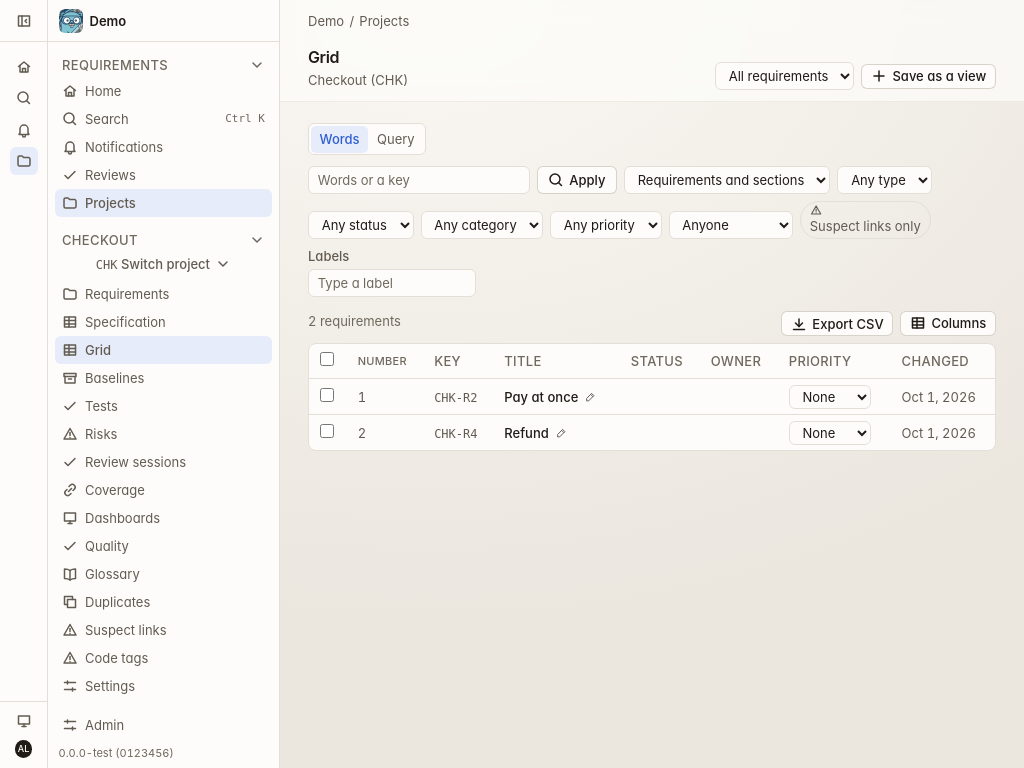
picking requirements for Armature issues › picks every requirement a grid shows at once
What coordinates should you click on to do the following:
click the checkbox named "Select every requirement shown" next to "Number"
I would click on:
 (326, 359)
Its box is [320,352,334,366].
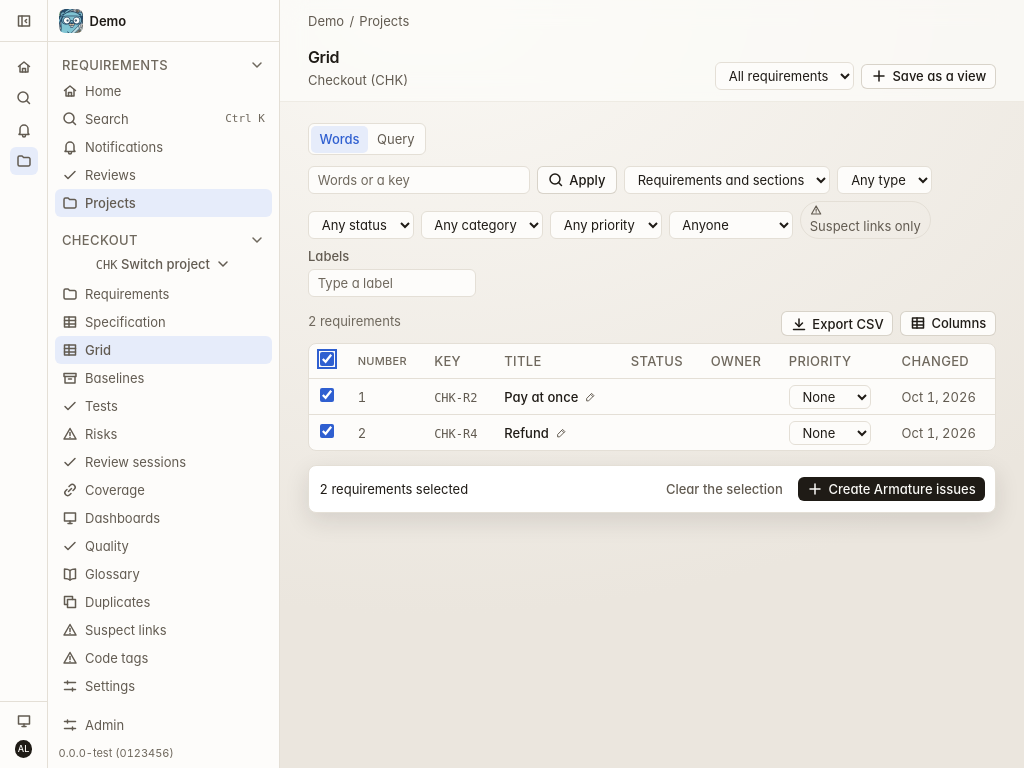
Expected: the checkbox named "Select CHK-R4" in the row of "CHK-R4" is checked, [320,424,334,438]
Expected: the text "2 requirements selected" is shown, [320,479,468,499]
What coordinates should you click on to do the following:
click the button "Clear the selection"
I would click on:
 (724, 489)
Its box is [657,477,791,501].
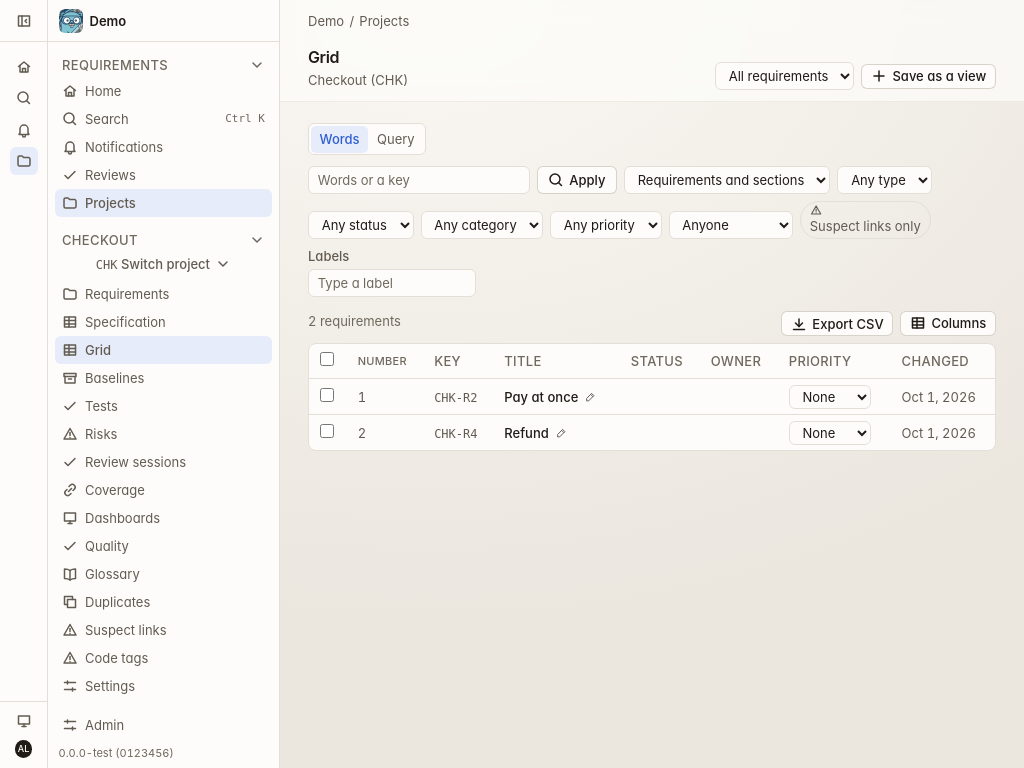
Expected: the checkbox named "Select CHK-R2" in the row of "CHK-R2" is not checked, [320,388,334,402]
